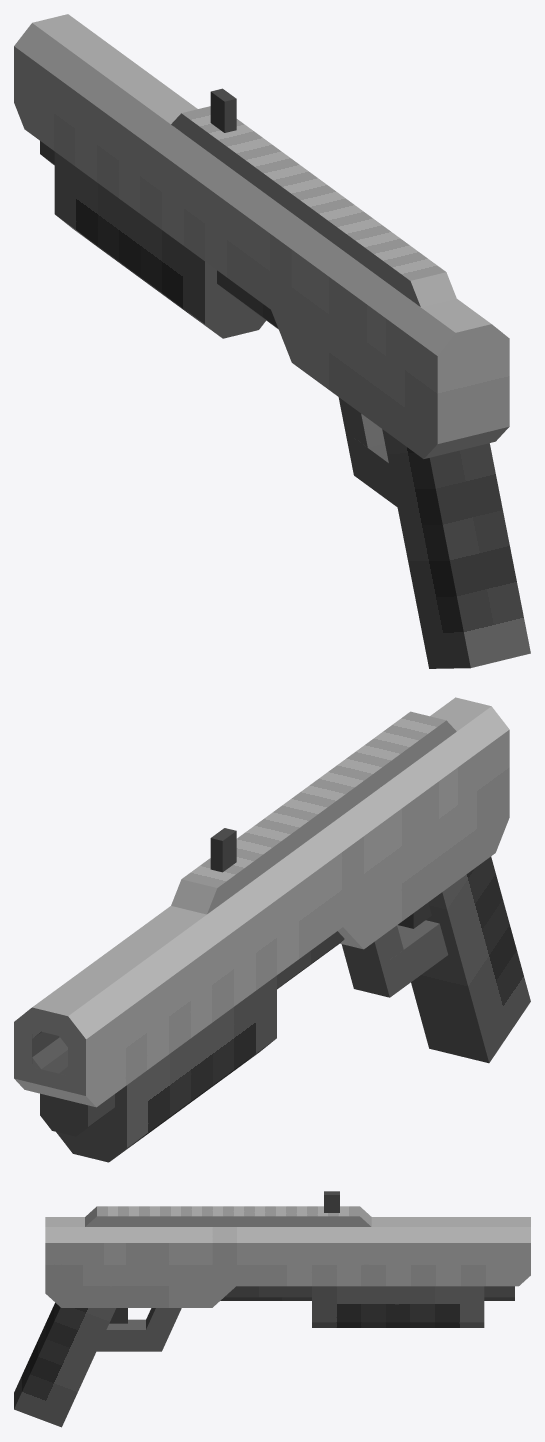
Rendered from shotgun.gltf.
3 views of the same model, one above another, from view 1: azimuth 30°, elevation 25°; view 2: azimuth 150°, elevation 25°; view 3: azimuth 270°, elevation 25° (orthographic). The views are drawn at different scales.
Parts seen in each view (by area): view 1: cube (×16); view 2: cube (×20); view 3: cube (×17).
Boxes of the visible parts, <box> form: cube (×16): <box>14,14,530,668</box>; cube (×20): <box>14,697,530,1162</box>; cube (×17): <box>14,1191,530,1427</box>.
Size of the model in its own units: 0.075 by 0.3913 by 0.8116.
Materials: 1 (1 with a texture image).
